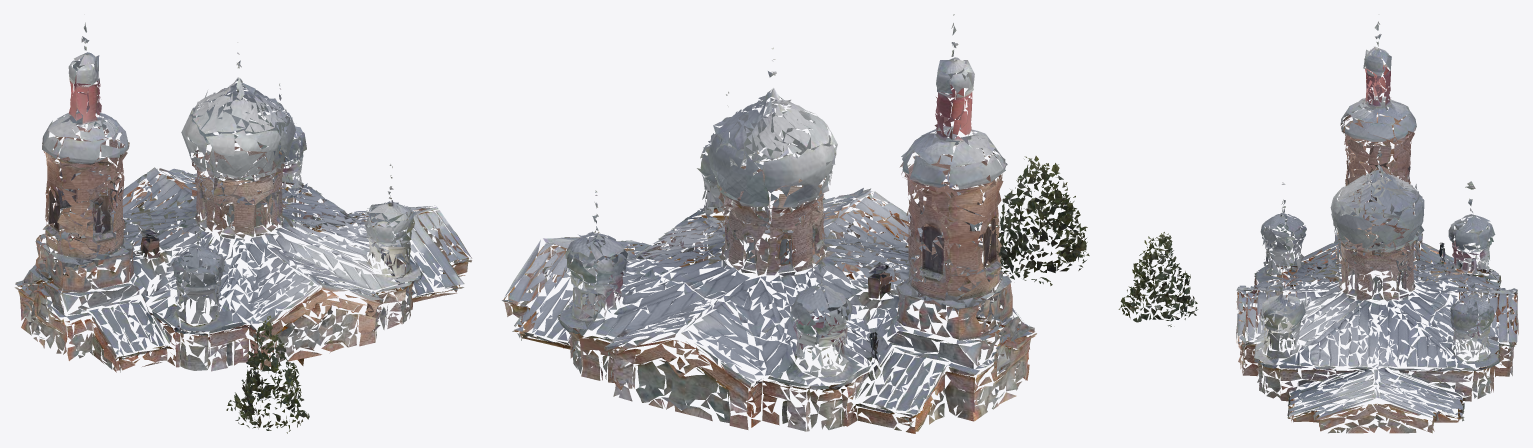
The model's file is SM_ParishUpperChurch.glb.
3 views of the same model, side by side, from view 1: azimuth 30°, elevation 25°; view 2: azimuth 150°, elevation 25°; view 3: azimuth 270°, elevation 25° (orthographic). The views are drawn at different scales.
Visible parts, largest first — view 1: SM_ParishUpperChurch; view 2: SM_ParishUpperChurch; view 3: SM_ParishUpperChurch.
Part boxes in pixels (x1=…): SM_ParishUpperChurch: x1=14, y1=22, x2=471, y2=433; SM_ParishUpperChurch: x1=502, y1=14, x2=1089, y2=433; SM_ParishUpperChurch: x1=1118, y1=21, x2=1518, y2=433.
Size of the model in its own units: 19.25 by 15.11 by 19.58.
2 materials, 2 textured.
